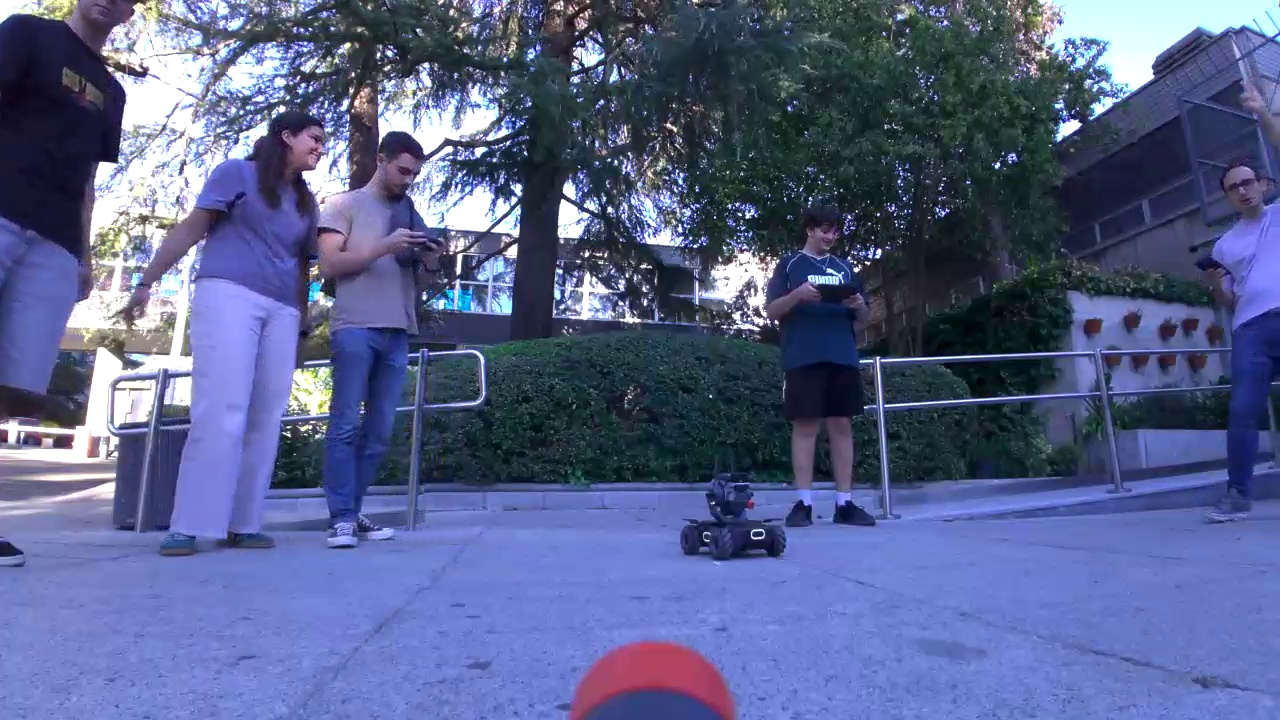robot: (683, 487, 797, 572)
